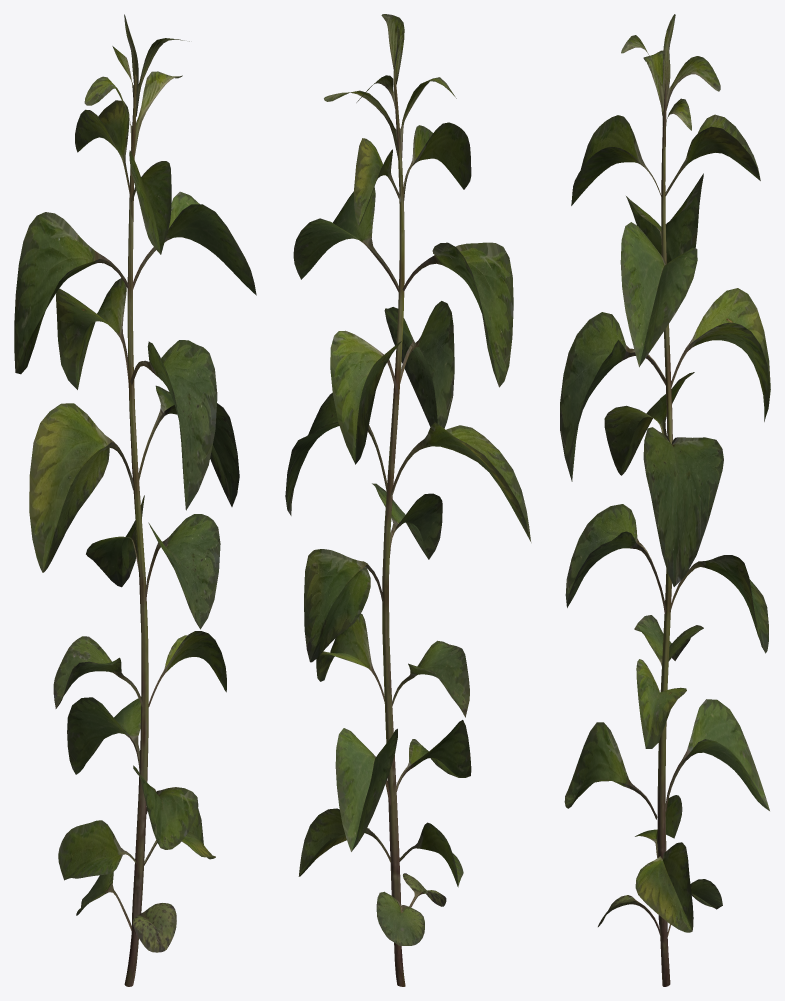
The model's file is broad_bean_plant.glb.
3 views of the same model, side by side, from view 1: azimuth 30°, elevation 25°; view 2: azimuth 150°, elevation 25°; view 3: azimuth 270°, elevation 25° (orthographic).
Visible parts, largest first — view 1: nettle_plant_tall_a_LOD0; view 2: nettle_plant_tall_a_LOD0; view 3: nettle_plant_tall_a_LOD0.
Part boxes in pixels (bbox=[...]): nettle_plant_tall_a_LOD0: bbox=[14, 14, 256, 986]; nettle_plant_tall_a_LOD0: bbox=[285, 14, 531, 986]; nettle_plant_tall_a_LOD0: bbox=[560, 14, 770, 986].
Size of the model in its own units: 0.3629 by 1.49 by 0.2929.
1 material, 1 textured.
